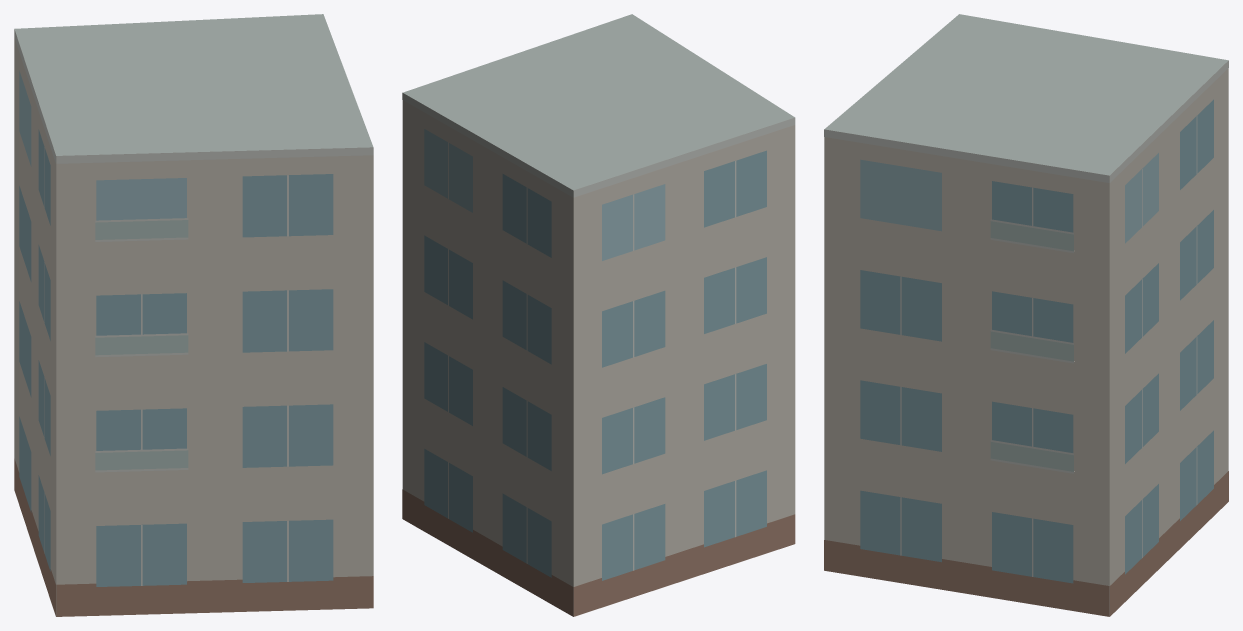
Rendered from survey-upis-33005356.glb.
The picture shows the model from 3 angles, left to right: view 1: azimuth 30°, elevation 25°; view 2: azimuth 150°, elevation 25°; view 3: azimuth 270°, elevation 25°; orthographic projection. The views are drawn at different scales.
Visible parts, largest first — view 1: survey-upis-33005356.tmp; view 2: survey-upis-33005356.tmp; view 3: survey-upis-33005356.tmp.
Part boxes in pixels (x1=…): survey-upis-33005356.tmp: x1=14, y1=14, x2=373, y2=616; survey-upis-33005356.tmp: x1=402, y1=14, x2=795, y2=616; survey-upis-33005356.tmp: x1=824, y1=14, x2=1228, y2=616.
Bounding box in the file's own units: 11.25 × 14.31 × 11.9.
